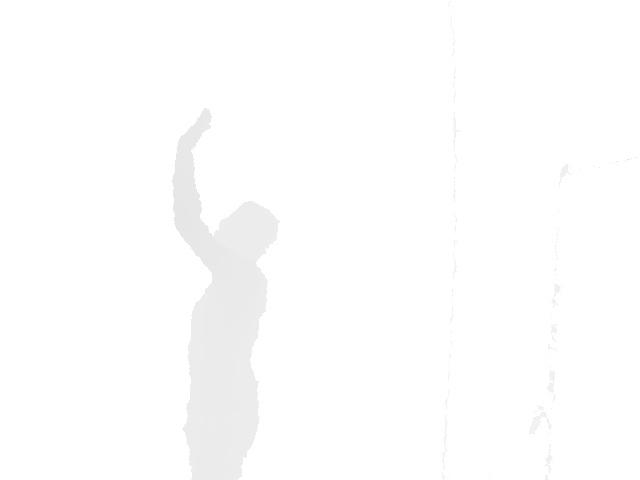hand: (176, 107, 213, 150)
head: (211, 200, 280, 265)
person: (171, 107, 281, 480)
